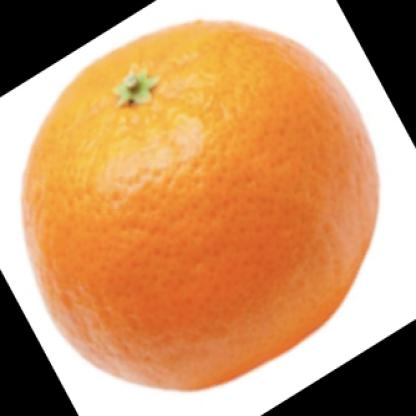orange: (15, 17, 385, 397)
